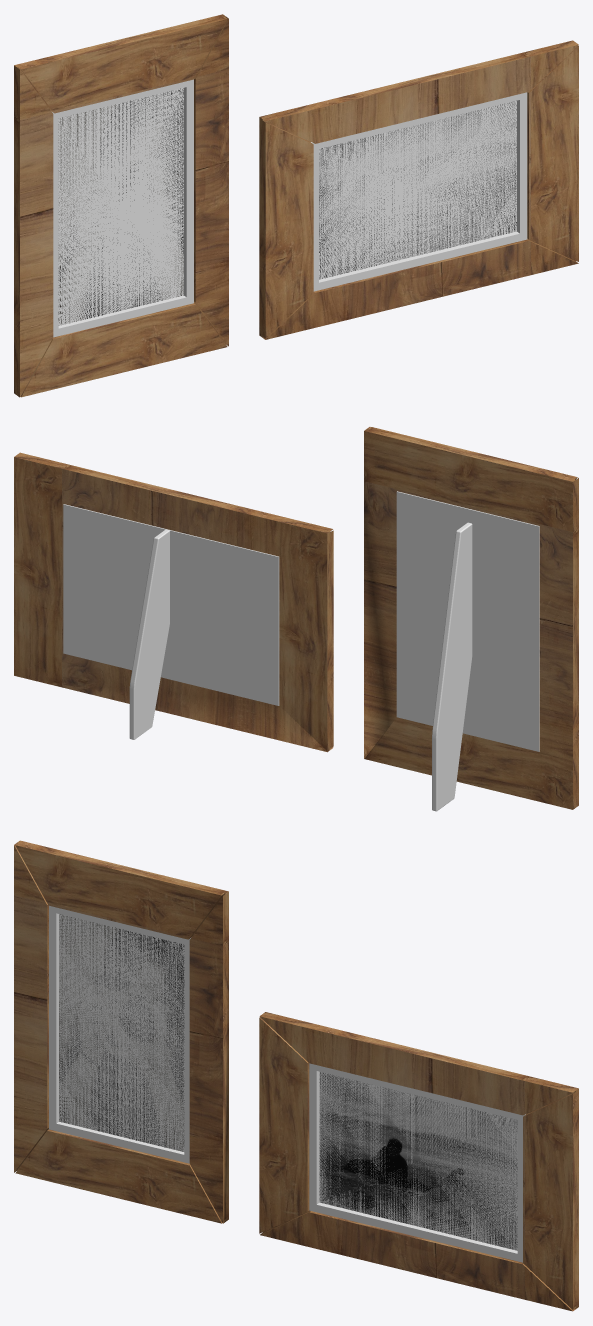
The model's file is cuadros.glb.
The picture shows the model from 3 angles, top to bottom: view 1: azimuth 30°, elevation 25°; view 2: azimuth 150°, elevation 25°; view 3: azimuth 330°, elevation 25°; orthographic projection.
Visible parts, largest first — view 1: mesh_5_ROOT__Componente#1__Agrupar#1_Layer0_193_158_121_ss, mesh_14_ROOT__Componente#2__Agrupar#5_Layer0_193_158_121_ss, mesh_10_ROOT__Componente#2_Layer0_255_255_255_ss, mesh_0_ROOT__Componente#1_Layer0_255_255_255_ds, mesh_2_ROOT__Componente#1__Agrupar#3_Layer0, mesh_6_ROOT__Componente#1__Agrupar#1_Layer0_226_226_226_ss, mesh_15_ROOT__Componente#2__Agrupar#5_Layer0_226_226_226_ss, mesh_11_ROOT__Componente#2__Agrupar#2_Layer0; view 2: mesh_5_ROOT__Componente#1__Agrupar#1_Layer0_193_158_121_ss, mesh_14_ROOT__Componente#2__Agrupar#5_Layer0_193_158_121_ss, mesh_1_ROOT__Componente#1_Layer0_226_226_226_ds, mesh_8_ROOT__Componente#2_Layer0_226_226_226_ds, mesh_12_ROOT__Componente#2__Agrupar#4_Layer0, mesh_3_ROOT__Componente#1__Agrupar#4_Layer0; view 3: mesh_5_ROOT__Componente#1__Agrupar#1_Layer0_193_158_121_ss, mesh_14_ROOT__Componente#2__Agrupar#5_Layer0_193_158_121_ss, mesh_10_ROOT__Componente#2_Layer0_255_255_255_ss, mesh_2_ROOT__Componente#1__Agrupar#3_Layer0, mesh_0_ROOT__Componente#1_Layer0_255_255_255_ds, mesh_11_ROOT__Componente#2__Agrupar#2_Layer0, mesh_6_ROOT__Componente#1__Agrupar#1_Layer0_226_226_226_ss, mesh_15_ROOT__Componente#2__Agrupar#5_Layer0_226_226_226_ss.
Boxes of the visible parts, box(x1,y1,x2,y2) form: mesh_5_ROOT__Componente#1__Agrupar#1_Layer0_193_158_121_ss: box(259, 40, 578, 339); mesh_14_ROOT__Componente#2__Agrupar#5_Layer0_193_158_121_ss: box(14, 14, 228, 397); mesh_10_ROOT__Componente#2_Layer0_255_255_255_ss: box(58, 88, 183, 325); mesh_0_ROOT__Componente#1_Layer0_255_255_255_ds: box(319, 101, 516, 279); mesh_2_ROOT__Componente#1__Agrupar#3_Layer0: box(319, 100, 516, 279); mesh_6_ROOT__Componente#1__Agrupar#1_Layer0_226_226_226_ss: box(311, 92, 527, 291); mesh_15_ROOT__Componente#2__Agrupar#5_Layer0_226_226_226_ss: box(52, 79, 193, 337); mesh_11_ROOT__Componente#2__Agrupar#2_Layer0: box(58, 88, 183, 323); mesh_5_ROOT__Componente#1__Agrupar#1_Layer0_193_158_121_ss: box(14, 452, 333, 752); mesh_14_ROOT__Componente#2__Agrupar#5_Layer0_193_158_121_ss: box(364, 427, 578, 809); mesh_1_ROOT__Componente#1_Layer0_226_226_226_ds: box(63, 504, 279, 705); mesh_8_ROOT__Componente#2_Layer0_226_226_226_ds: box(396, 491, 539, 751); mesh_12_ROOT__Componente#2__Agrupar#4_Layer0: box(432, 522, 472, 811); mesh_3_ROOT__Componente#1__Agrupar#4_Layer0: box(129, 529, 169, 739); mesh_5_ROOT__Componente#1__Agrupar#1_Layer0_193_158_121_ss: box(259, 1012, 578, 1311); mesh_14_ROOT__Componente#2__Agrupar#5_Layer0_193_158_121_ss: box(14, 840, 228, 1223); mesh_10_ROOT__Componente#2_Layer0_255_255_255_ss: box(59, 914, 184, 1151); mesh_2_ROOT__Componente#1__Agrupar#3_Layer0: box(319, 1072, 517, 1249); mesh_0_ROOT__Componente#1_Layer0_255_255_255_ds: box(319, 1072, 517, 1250); mesh_11_ROOT__Componente#2__Agrupar#2_Layer0: box(59, 914, 184, 1151); mesh_6_ROOT__Componente#1__Agrupar#1_Layer0_226_226_226_ss: box(309, 1063, 525, 1262); mesh_15_ROOT__Componente#2__Agrupar#5_Layer0_226_226_226_ss: box(49, 905, 190, 1163).
Size of the model in its own units: 535 by 302 by 70.
Materials: 9 (4 with a texture image).
